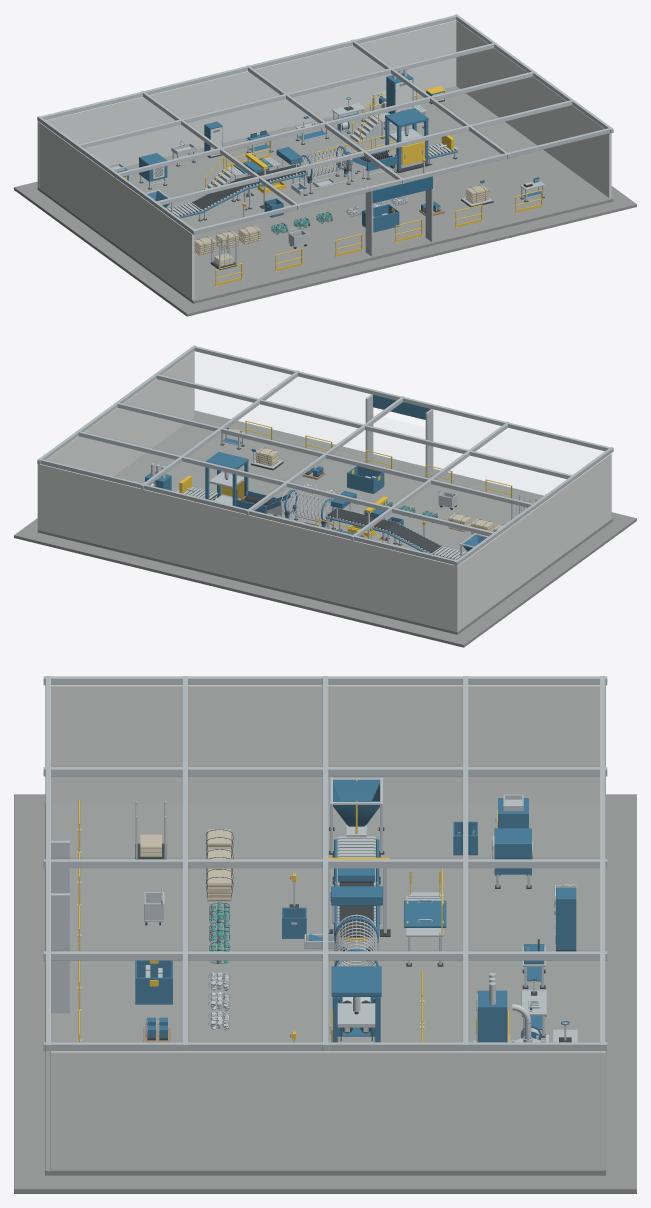
File: recycling-centre-and-material-sorting-ma-b23b5e9d-starter-scene__31157.glb
3 renders of one model, top to bottom at view 1: azimuth 30°, elevation 25°; view 2: azimuth 150°, elevation 25°; view 3: azimuth 270°, elevation 25°, orthographic. The views are drawn at different scales.
Parts seen in each view (by area): view 1: 001-roofed-sorting-hall/1, 001-roofed-sorting-hall/0, 001-roofed-sorting-hall/4, 000-recovery-yard-base/0, 009-vertical-baler/1, 001-roofed-sorting-hall/3, 006-sorting-screen-drum/0, 057-sorted-metal-skip/0, 033-platform-access-stair/0, 004-inclined-feed-conveyor/2, 009-vertical-baler/3, 024-air-separator-housing/2; view 2: 001-roofed-sorting-hall/1, 001-roofed-sorting-hall/2, 001-roofed-sorting-hall/4, 001-roofed-sorting-hall/0, 000-recovery-yard-base/0, 009-vertical-baler/1, 006-sorting-screen-drum/0, 057-sorted-metal-skip/0, 001-roofed-sorting-hall/3, 004-inclined-feed-conveyor/2, 005-picking-belt/2, 009-vertical-baler/2; view 3: 001-roofed-sorting-hall/1, 001-roofed-sorting-hall/0, 001-roofed-sorting-hall/4, 000-recovery-yard-base/0, 009-vertical-baler/1, 002-receiving-hopper/2, 057-sorted-metal-skip/0, 031-dust-filter-cabinet/1, 024-air-separator-housing/2, 045-staff-protective-equipment-locker/1, 006-sorting-screen-drum/0, 020-shredder-service-lid/0 (+8 smaller).
Part boxes in pixels (<box>): 001-roofed-sorting-hall/1: <box>37,20,611,299</box>; 001-roofed-sorting-hall/0: <box>37,86,613,303</box>; 001-roofed-sorting-hall/4: <box>37,14,613,256</box>; 000-recovery-yard-base/0: <box>14,181,636,316</box>; 009-vertical-baler/1: <box>385,108,428,170</box>; 001-roofed-sorting-hall/3: <box>372,176,432,203</box>; 006-sorting-screen-drum/0: <box>297,146,352,179</box>; 057-sorted-metal-skip/0: <box>362,204,399,232</box>; 033-platform-access-stair/0: <box>350,116,380,143</box>; 004-inclined-feed-conveyor/2: <box>191,179,247,220</box>; 009-vertical-baler/3: <box>401,141,425,165</box>; 024-air-separator-housing/2: <box>139,153,167,181</box>; 001-roofed-sorting-hall/1: <box>37,351,611,631</box>; 001-roofed-sorting-hall/2: <box>195,352,603,499</box>; 001-roofed-sorting-hall/4: <box>37,345,613,565</box>; 001-roofed-sorting-hall/0: <box>37,416,613,634</box>; 000-recovery-yard-base/0: <box>14,410,636,647</box>; 009-vertical-baler/1: <box>205,452,248,506</box>; 006-sorting-screen-drum/0: <box>281,489,334,523</box>; 057-sorted-metal-skip/0: <box>347,466,384,493</box>; 001-roofed-sorting-hall/3: <box>373,395,430,419</box>; 004-inclined-feed-conveyor/2: <box>387,522,442,554</box>; 005-picking-belt/2: <box>327,508,397,544</box>; 009-vertical-baler/2: <box>209,472,244,505</box>; 001-roofed-sorting-hall/1: <box>50,685,605,1170</box>; 001-roofed-sorting-hall/0: <box>45,803,605,1175</box>; 001-roofed-sorting-hall/4: <box>43,676,607,1051</box>; 000-recovery-yard-base/0: <box>14,794,636,1193</box>; 009-vertical-baler/1: <box>331,966,381,1042</box>; 002-receiving-hopper/2: <box>333,779,380,826</box>; 057-sorted-metal-skip/0: <box>135,960,172,1004</box>; 031-dust-filter-cabinet/1: <box>477,990,507,1042</box>; 024-air-separator-housing/2: <box>494,828,531,874</box>; 045-staff-protective-equipment-locker/1: <box>556,888,576,950</box>; 006-sorting-screen-drum/0: <box>335,914,377,966</box>; 020-shredder-service-lid/0: <box>404,900,446,927</box>.
Size of the model in its own units: 30 by 4.87 by 20.
